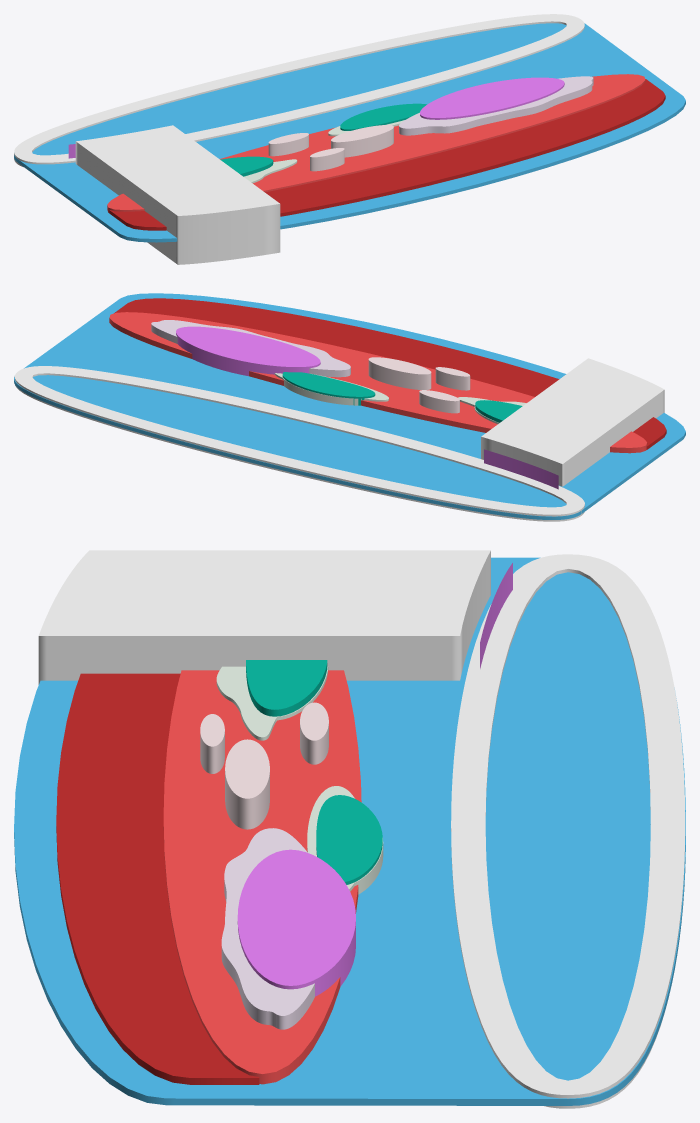
The model's file is emoji_u1f9eb.glb.
3 views of the same model, one above another, from view 1: azimuth 30°, elevation 25°; view 2: azimuth 150°, elevation 25°; view 3: azimuth 270°, elevation 25° (orthographic). The views are drawn at different scales.
Visible parts, largest first — view 1: emoji_u1f9eb; view 2: emoji_u1f9eb; view 3: emoji_u1f9eb.
Part boxes in pixels (bbox=[...]): emoji_u1f9eb: bbox=[14, 14, 685, 264]; emoji_u1f9eb: bbox=[14, 293, 685, 521]; emoji_u1f9eb: bbox=[14, 550, 685, 1108].
Size of the model in its own units: 0.0339 by 0.0028 by 0.0178.
